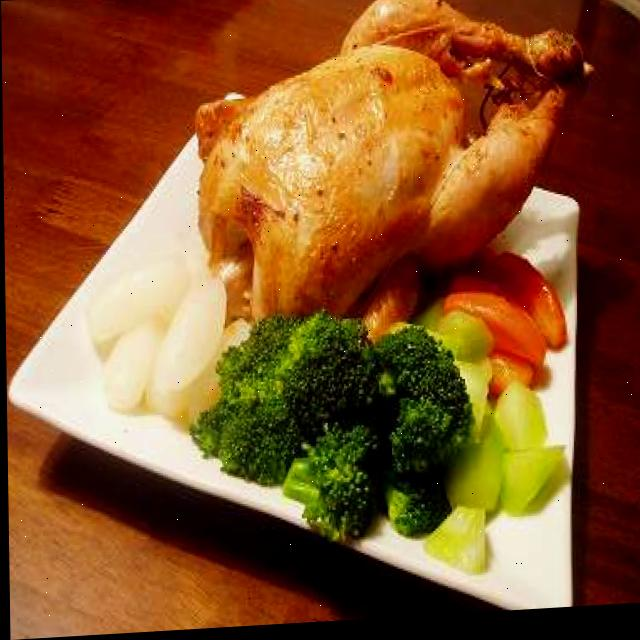鸡肉料理 含炸鸡: (184, 0, 599, 345)
